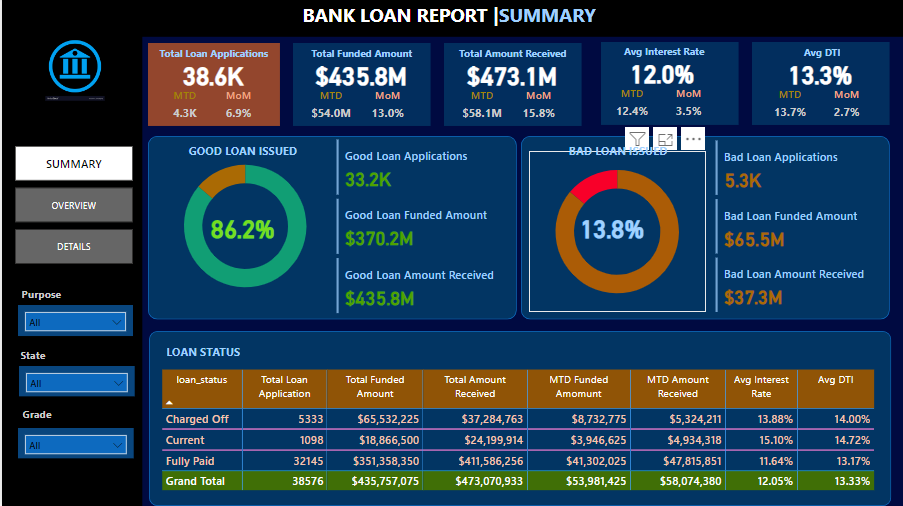

The dashboard page shown, as its layout file describes it:
{"tool":"powerbi","page":{"name":"SUMMARY","canvas":[1280,720],"ordinal":0},"visuals":[{"type":"shape","box":[849.7,62.4,195,117.5],"z":0,"group":"g4"},{"type":"shape","box":[1063.2,62.8,195.5,117.6],"z":0,"group":"g5"},{"type":"shape","box":[412.4,63.4,195.5,117.6],"z":0,"group":"g2"},{"type":"shape","box":[626,63.8,195.5,117.6],"z":0,"group":"g3"},{"type":"shape","box":[207.3,64.5,187.2,117.6],"z":0,"group":"g1"},{"type":"slicer","fields":{"Values":["bank_loan_data.purpose"]},"box":[23.2,434.9,163.3,44.4],"z":0,"group":"g9"},{"type":"textbox","box":[228.8,472.5,215,35],"z":0},{"type":"slicer","fields":{"Values":["bank_loan_data.address_state"]},"box":[23.7,520.9,164.4,43.3],"z":0,"group":"g6"},{"type":"slicer","fields":{"Values":["bank_loan_data.grade"]},"box":[22.9,609.9,164.4,43.3],"z":0,"group":"g8"},{"type":"shape","box":[0,0,1280,55],"z":1000},{"type":"card","fields":{"Values":["bank_loan_data.Avg Interest Rate"]},"box":[838.3,82.2,195.4,46.2],"z":1000,"group":"g4"},{"type":"card","fields":{"Values":["bank_loan_data.Avg DTI"]},"box":[1061.7,83.9,195.4,46.2],"z":1000,"group":"g5"},{"type":"card","fields":{"Values":["bank_loan_data.Total Funded Amount"]},"box":[410.9,84.5,195.4,46.2],"z":1000,"group":"g2"},{"type":"card","fields":{"Values":["bank_loan_data.Total Amount Received"]},"box":[624.5,84.9,195.4,46.2],"z":1000,"group":"g3"},{"type":"card","fields":{"Values":["bank_loan_data.Total Loan Application"]},"box":[205.8,85.6,187.1,46.2],"z":1000,"group":"g1"},{"type":"textbox","box":[21.4,490,66.7,31.1],"z":1000,"group":"g6"},{"type":"shape","box":[1.5,0.3,195.5,117.6],"z":2000},{"type":"textbox","box":[840,60.8,195,35],"z":2000,"group":"g4"},{"type":"textbox","box":[1063.4,62.5,195,35],"z":2000,"group":"g5"},{"type":"textbox","box":[412.6,63.1,195,35],"z":2000,"group":"g2"},{"type":"textbox","box":[626.2,63.5,195,35],"z":2000,"group":"g3"},{"type":"textbox","box":[207.4,64.2,186.7,35],"z":2000,"group":"g1"},{"type":"card","title":"MTD","fields":{"Values":["bank_loan_data.MTD Avg Int Rate"]},"box":[856.9,124.4,73.8,53.8],"z":3000,"group":"g4"},{"type":"card","title":"MTD","fields":{"Values":["bank_loan_data.MTD Avg DTI"]},"box":[1080.3,126.1,73.8,53.8],"z":3000,"group":"g5"},{"type":"card","title":"MTD","fields":{"Values":["bank_loan_data.MTD Funded Amomunt"]},"box":[429.5,126.7,73.8,53.8],"z":3000,"group":"g2"},{"type":"card","title":"MTD","fields":{"Values":["bank_loan_data.MTD Amomunt Received"]},"box":[643.1,127.1,73.8,53.8],"z":3000,"group":"g3"},{"type":"card","title":"MTD","fields":{"Values":["bank_loan_data.MTD Loan Applications"]},"box":[223.6,127.8,70.7,53.8],"z":3000,"group":"g1"},{"type":"shape","box":[207.5,195,522.5,260],"z":3000},{"type":"card","title":"MoM","fields":{"Values":["bank_loan_data.MOM Avg Int Rate"]},"box":[937.7,124.4,73.1,53.8],"z":4000,"group":"g4"},{"type":"card","title":"MoM","fields":{"Values":["bank_loan_data.MOM Avg DTI"]},"box":[1161.1,126.1,73.1,53.8],"z":4000,"group":"g5"},{"type":"card","title":"MoM","fields":{"Values":["bank_loan_data.MOM Total Funded Amount"]},"box":[510.3,126.7,73.1,53.8],"z":4000,"group":"g2"},{"type":"card","title":"MoM","fields":{"Values":["bank_loan_data.MOM Total Amount Received"]},"box":[723.9,127.1,73.1,53.8],"z":4000,"group":"g3"},{"type":"card","title":"MoM","fields":{"Values":["bank_loan_data.MOM Loan Application"]},"box":[301,127.8,70,53.8],"z":4000,"group":"g1"},{"type":"card","fields":{"Values":["bank_loan_data.Good Loan %"]},"box":[272.5,301.2,137.5,46.2],"z":4000},{"type":"textbox","box":[233.3,200,215.6,35.6],"z":5000},{"type":"shape","box":[0,0,198.9,722.2],"z":6000},{"type":"textbox","box":[420.9,0,439.4,46.8],"z":7000},{"type":"group","id":"g1","title":"Group 1","box":[205.8,64.2,188.3,117.5],"z":8000},{"type":"group","id":"g2","title":"Group 1","box":[410.9,63.1,196.9,117.7],"z":9000},{"type":"group","id":"g3","title":"Group 1","box":[624.5,63.5,197.1,117.6],"z":10000},{"type":"shape","box":[208,472,1052,248],"z":11000},{"type":"group","id":"g4","title":"Group 1","box":[838.3,60.8,206.7,119.2],"z":12000},{"type":"donutChart","fields":{"Category":["bank_loan_data.Good vs Bad Loan"],"Y":["bank_loan_data.Total Loan Application"]},"box":[219,210,250,227],"z":13000},{"type":"group","id":"g5","title":"Group 1","box":[1061.7,62.5,196.7,117.5],"z":14000},{"type":"shape","box":[736.2,195,522.5,260],"z":15000},{"type":"cardVisual","fields":{"Data":["bank_loan_data.Good Loan Applications","bank_loan_data.Good Loan Funded Amount","bank_loan_data.Good Loan Amount Received"]},"box":[469,195,253,257],"z":16000},{"type":"donutChart","fields":{"Category":["bank_loan_data.Good vs Bad Loan"],"Y":["bank_loan_data.Total Loan Application"]},"box":[747.1,217.1,250,228.6],"z":17000},{"type":"textbox","box":[765,200,216,36],"z":18000},{"type":"card","fields":{"Values":["bank_loan_data.Bad Loan %"]},"box":[797.1,301.4,135.7,47.1],"z":19000},{"type":"cardVisual","fields":{"Data":["bank_loan_data.Bad Loan Applications","bank_loan_data.Bad Loan Funded Amount","bank_loan_data.Bad Loan Amount Received"]},"box":[1005.7,197.1,252.9,255.7],"z":20000},{"type":"group","id":"g6","title":"Group 2","box":[21.4,490,167.1,74.3],"z":21000},{"type":"tableEx","fields":{"Values":["bank_loan_data.loan_status","bank_loan_data.Total Loan Application","bank_loan_data.Total Funded Amount","bank_loan_data.Total Amount Received","bank_loan_data.MTD Funded Amomunt","bank_loan_data.MTD Amount Received","bank_loan_data.Avg Interest Rate","bank_loan_data.Avg DTI"]},"box":[221.2,521.2,1028.8,186.2],"z":21000,"group":"g7"},{"type":"group","id":"g7","title":"Group 3","box":[221.2,485,1028.8,222.5],"z":22000},{"type":"textbox","box":[228.3,485,216.7,36.7],"z":22000,"group":"g7"},{"type":"image","box":[52.9,50,101.4,101.4],"z":23000},{"type":"group","id":"g8","title":"Group 2","box":[22.9,609.9,164.4,43.3],"z":23000,"group":"g10"},{"type":"pageNavigator","box":[18.6,210,167.1,167.1],"z":24000},{"type":"group","id":"g9","title":"Group 2","box":[23.2,434.9,162.9,45.7],"z":24000,"group":"g11"},{"type":"group","id":"g10","title":"Group 4","box":[22.9,574.3,164.3,78.6],"z":25000},{"type":"group","id":"g11","title":"Group 5","box":[22.9,404.3,162.9,75.7],"z":26000},{"type":"textbox","box":[22.9,404.3,77.8,35.6],"z":26000,"group":"g11"},{"type":"textbox","box":[24,574.3,77.8,35.6],"z":27000,"group":"g10"}]}

Visuals, with their boxes in screenshot pixels (x1, y1, x2, y2), scaled from the page's 1280x720 canvas onto the 903x506 screenshot:
shape: <box>599,44,737,126</box>
shape: <box>750,44,888,127</box>
shape: <box>291,45,429,127</box>
shape: <box>442,45,580,127</box>
shape: <box>146,45,278,128</box>
slicer - bank_loan_data.purpose: <box>16,306,132,337</box>
textbox: <box>161,332,313,357</box>
slicer - bank_loan_data.address_state: <box>17,366,133,397</box>
slicer - bank_loan_data.grade: <box>16,429,132,459</box>
shape: <box>0,0,902,39</box>
card - bank_loan_data.Avg Interest Rate: <box>591,58,729,90</box>
card - bank_loan_data.Avg DTI: <box>749,59,887,91</box>
card - bank_loan_data.Total Funded Amount: <box>290,59,428,92</box>
card - bank_loan_data.Total Amount Received: <box>441,60,578,92</box>
card - bank_loan_data.Total Loan Application: <box>145,60,277,93</box>
textbox: <box>15,344,62,366</box>
shape: <box>1,0,139,83</box>
textbox: <box>593,43,730,67</box>
textbox: <box>750,44,888,69</box>
textbox: <box>291,44,429,69</box>
textbox: <box>442,45,579,69</box>
textbox: <box>146,45,278,70</box>
"MTD" card: <box>605,87,657,125</box>
"MTD" card: <box>762,89,814,126</box>
"MTD" card: <box>303,89,355,127</box>
"MTD" card: <box>454,89,506,127</box>
"MTD" card: <box>158,90,208,128</box>
shape: <box>146,137,515,320</box>
"MoM" card: <box>662,87,713,125</box>
"MoM" card: <box>819,89,871,126</box>
"MoM" card: <box>360,89,412,127</box>
"MoM" card: <box>511,89,562,127</box>
"MoM" card: <box>212,90,262,128</box>
card - bank_loan_data.Good Loan %: <box>192,212,289,244</box>
textbox: <box>165,141,317,166</box>
shape: <box>0,0,140,505</box>
textbox: <box>297,0,607,33</box>
"Group 1" group: <box>145,45,278,128</box>
"Group 1" group: <box>290,44,429,127</box>
"Group 1" group: <box>441,45,580,127</box>
shape: <box>147,332,889,505</box>
"Group 1" group: <box>591,43,737,126</box>
donutChart - bank_loan_data.Good vs Bad Loan x bank_loan_data.Total Loan Application: <box>154,148,331,307</box>
"Group 1" group: <box>749,44,888,126</box>
shape: <box>519,137,888,320</box>
cardVisual - bank_loan_data.Good Loan Applications x bank_loan_data.Good Loan Funded Amount: <box>331,137,509,318</box>
donutChart - bank_loan_data.Good vs Bad Loan x bank_loan_data.Total Loan Application: <box>527,153,703,313</box>
textbox: <box>540,141,692,166</box>
card - bank_loan_data.Bad Loan %: <box>562,212,658,245</box>
cardVisual - bank_loan_data.Bad Loan Applications x bank_loan_data.Bad Loan Funded Amount: <box>709,139,888,318</box>
"Group 2" group: <box>15,344,133,397</box>
tableEx - bank_loan_data.loan_status x bank_loan_data.Total Loan Application: <box>156,366,882,497</box>
"Group 3" group: <box>156,341,882,497</box>
textbox: <box>161,341,314,367</box>
image: <box>37,35,109,106</box>
"Group 2" group: <box>16,429,132,459</box>
pageNavigator: <box>13,148,131,265</box>
"Group 2" group: <box>16,306,131,338</box>
"Group 4" group: <box>16,404,132,459</box>
"Group 5" group: <box>16,284,131,337</box>
textbox: <box>16,284,71,309</box>
textbox: <box>17,404,72,429</box>
